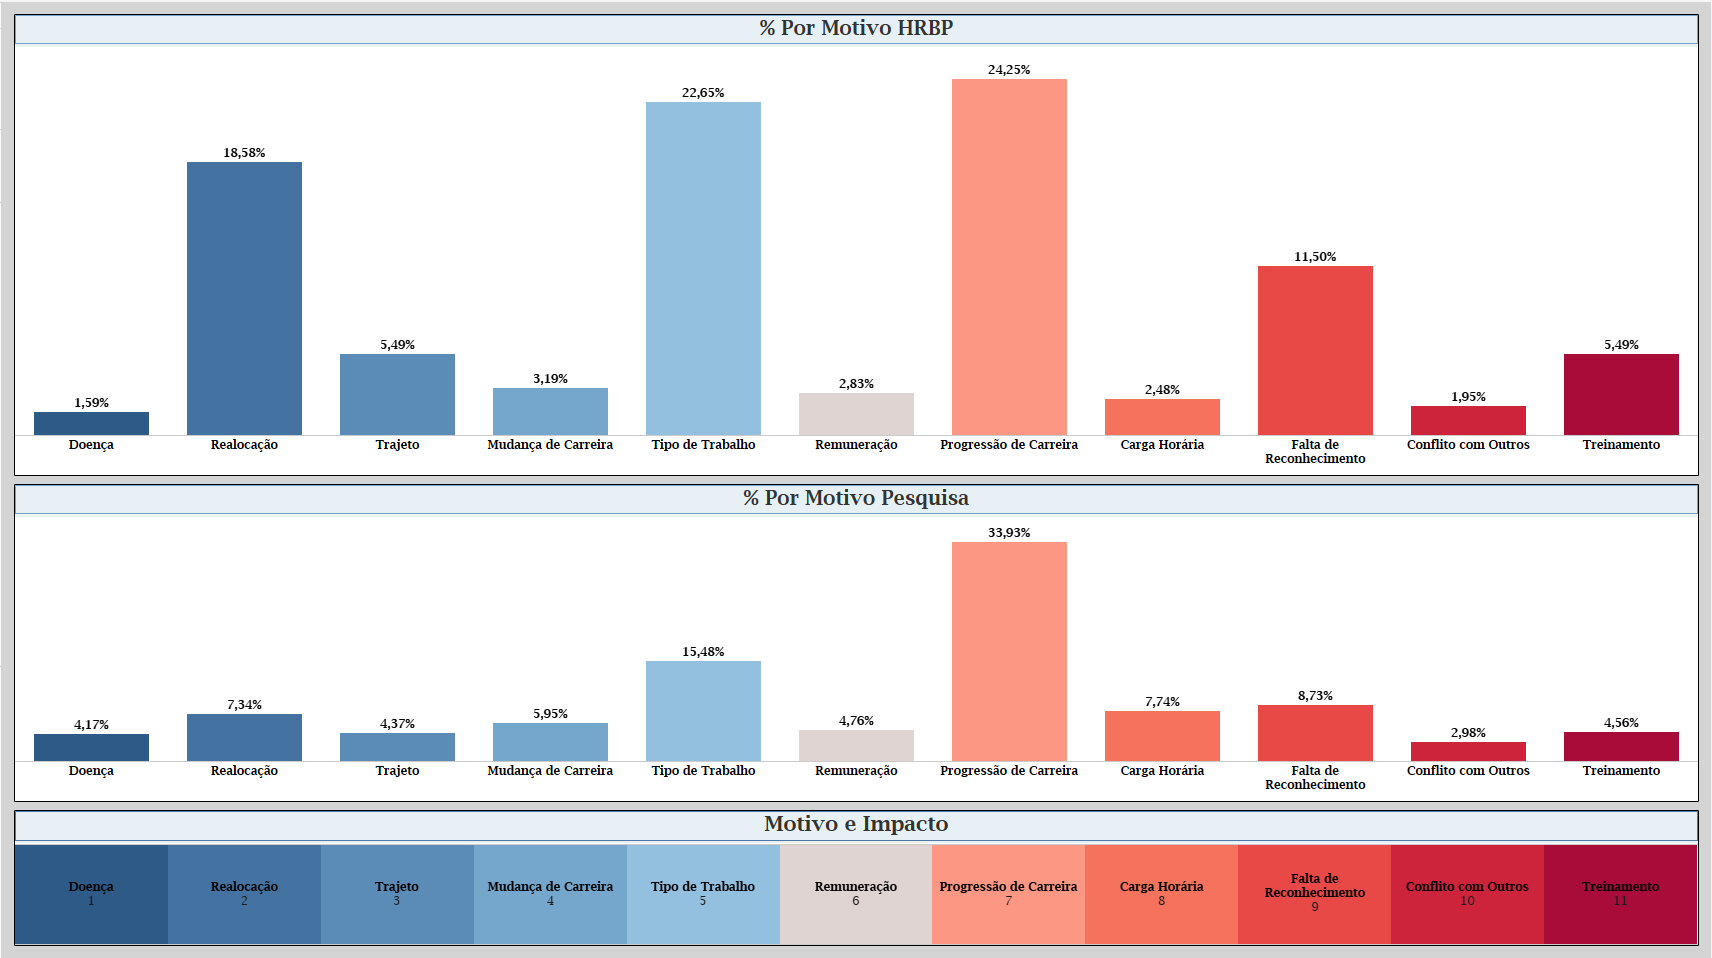

The page's visual inventory and layout, read from the dashboard file:
{"tool":"tableau","page":{"name":"% de Motivos de Ambas Pesquisas","canvas":[1000,1000],"units":"permille","ordinal":0},"visuals":[{"type":"worksheet","title":"% Por Motivo HRBP","mark":"Automatic","cols":["F1"],"box":[4.7,8.4,990.6,491.6]},{"type":"worksheet","title":"% Por Motivo Pesquisa","mark":"Automatic","rows":["Calculation_1108448522905571329"],"cols":["F1"],"box":[4.7,500,990.6,341]},{"type":"worksheet","title":"Motivo e Impacto","mark":"Square","cols":["F1"],"box":[4.7,841,990.6,150.6]}]}

Visuals, with their boxes on the dashboard's canvas, which has no fixed pixel size, in thousandths of its width and height (x1, y1, x2, y2). These are canvas units, not pixel positions in the 1712x958 screenshot, which may show the page scaled, cropped or inside an application window:
"% Por Motivo HRBP" worksheet: [x1=5, y1=8, x2=995, y2=500]
"% Por Motivo Pesquisa" worksheet: [x1=5, y1=500, x2=995, y2=841]
"Motivo e Impacto" worksheet (Square marks): [x1=5, y1=841, x2=995, y2=992]
